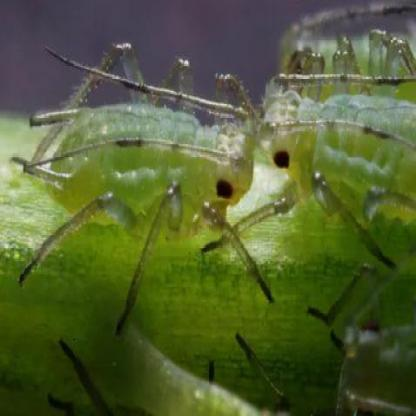aphid: (20, 23, 257, 284), (264, 63, 416, 248), (269, 0, 416, 100)
